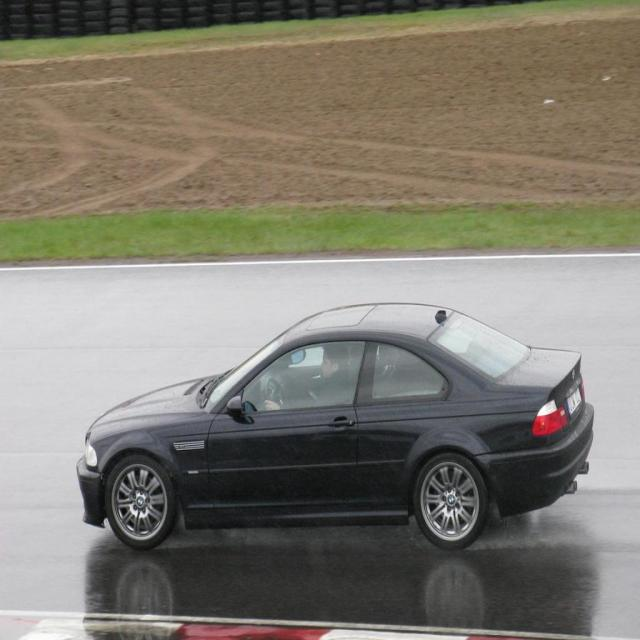car: (74, 303, 593, 546)
